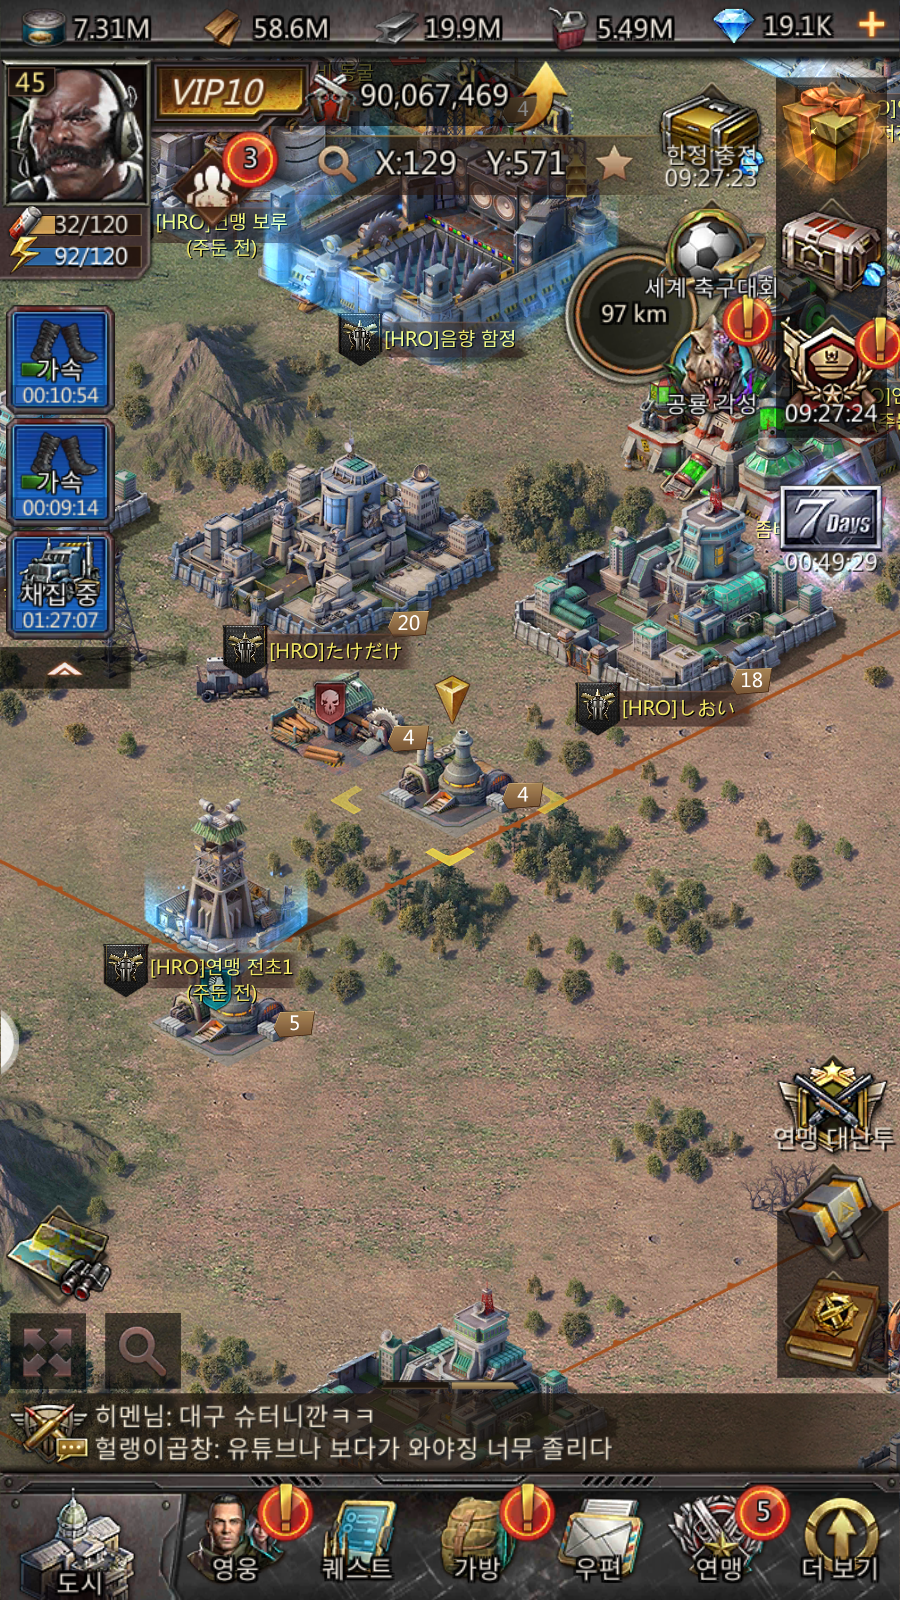city: (7, 1493, 171, 1600)
empty_steel: (322, 666, 584, 891)
open_panel: (101, 1307, 186, 1393)
troops_cnt_3: (149, 125, 303, 249)
